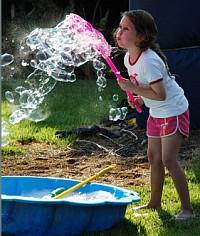person: (111, 11, 198, 220)
